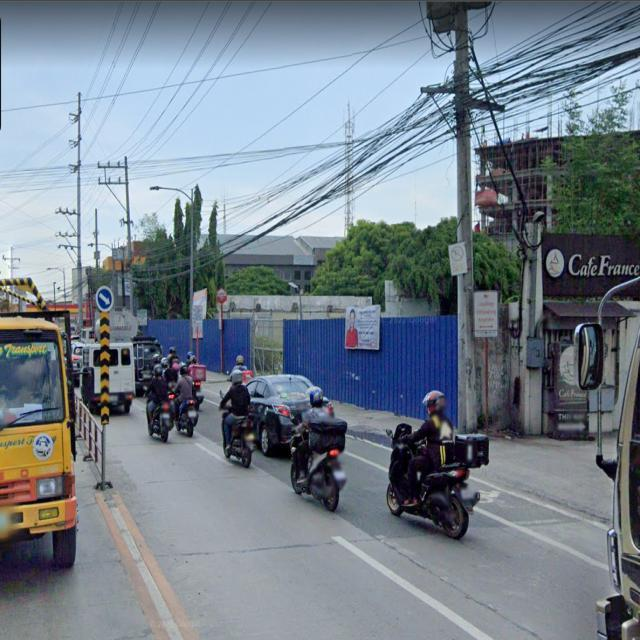keep right: (94, 284, 116, 314)
